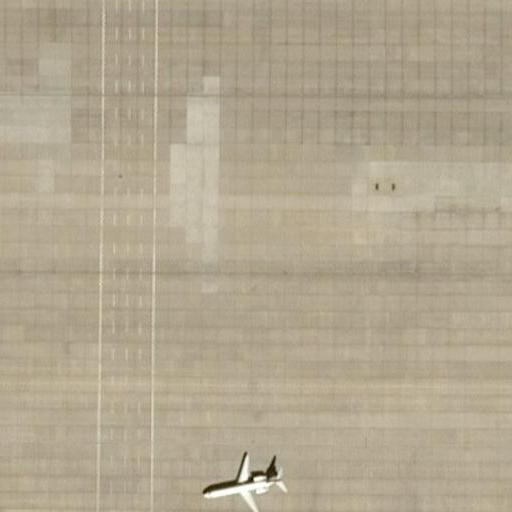Aircraft: (192, 444, 294, 509), (509, 0, 512, 10)
